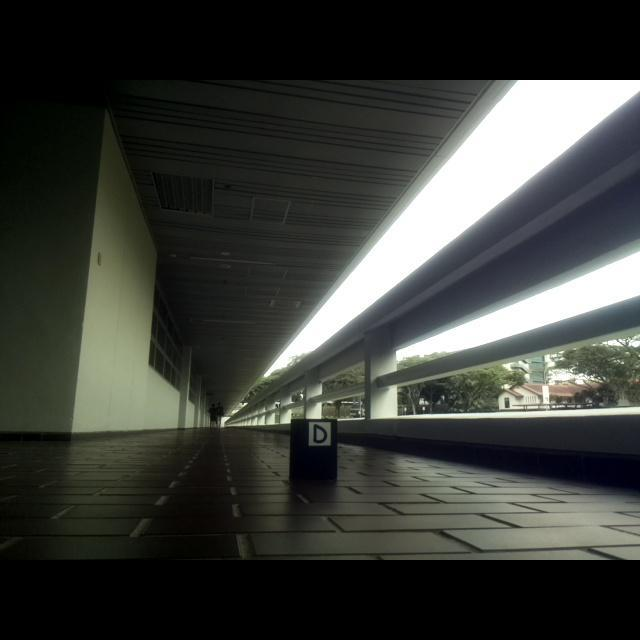D: (311, 424, 328, 445)
